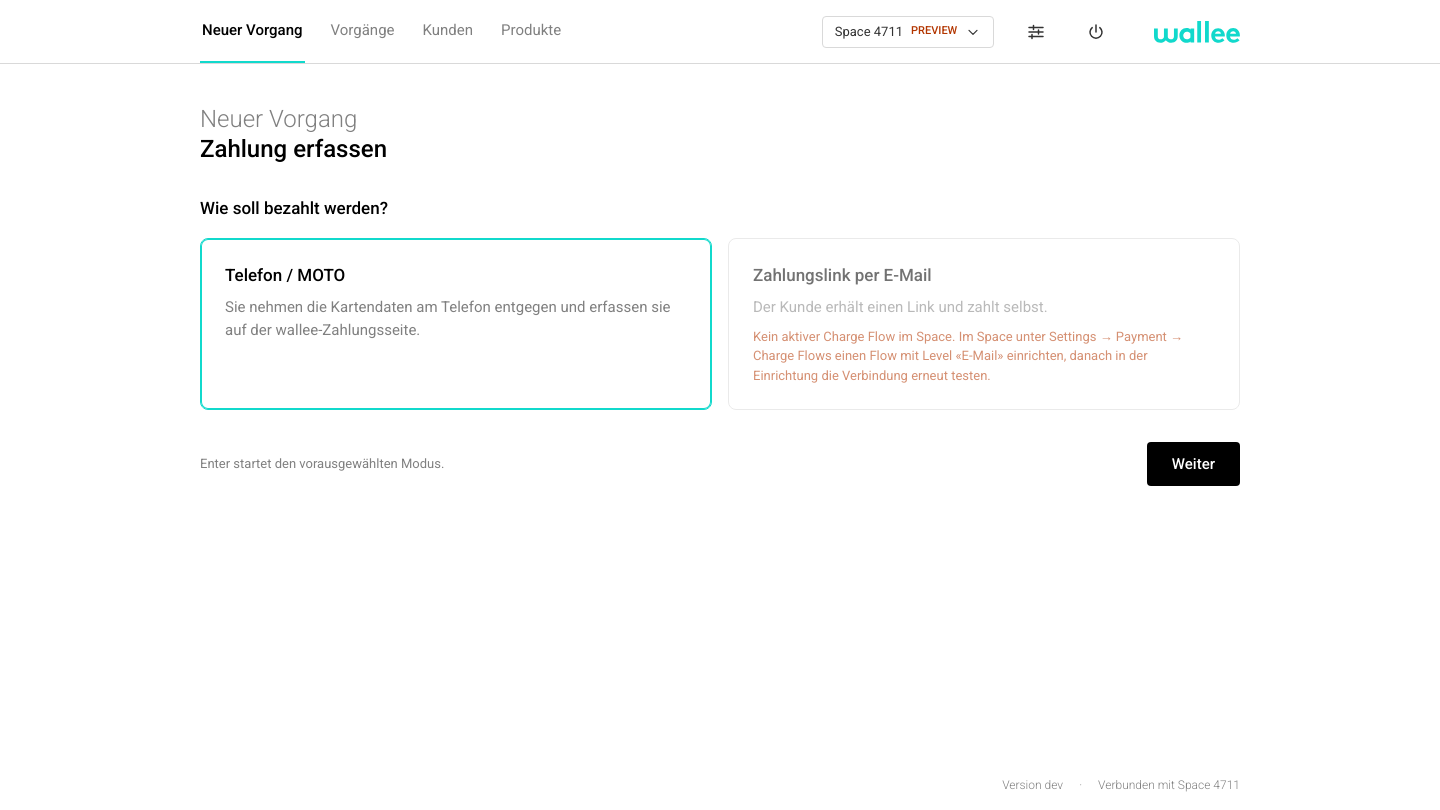
Scenario: wizard customer step with wallee customers › still allows continuing without a profile
Click the button "Telefon / MOTO": x=285, y=274 x1=200 y1=238 x2=712 y2=410
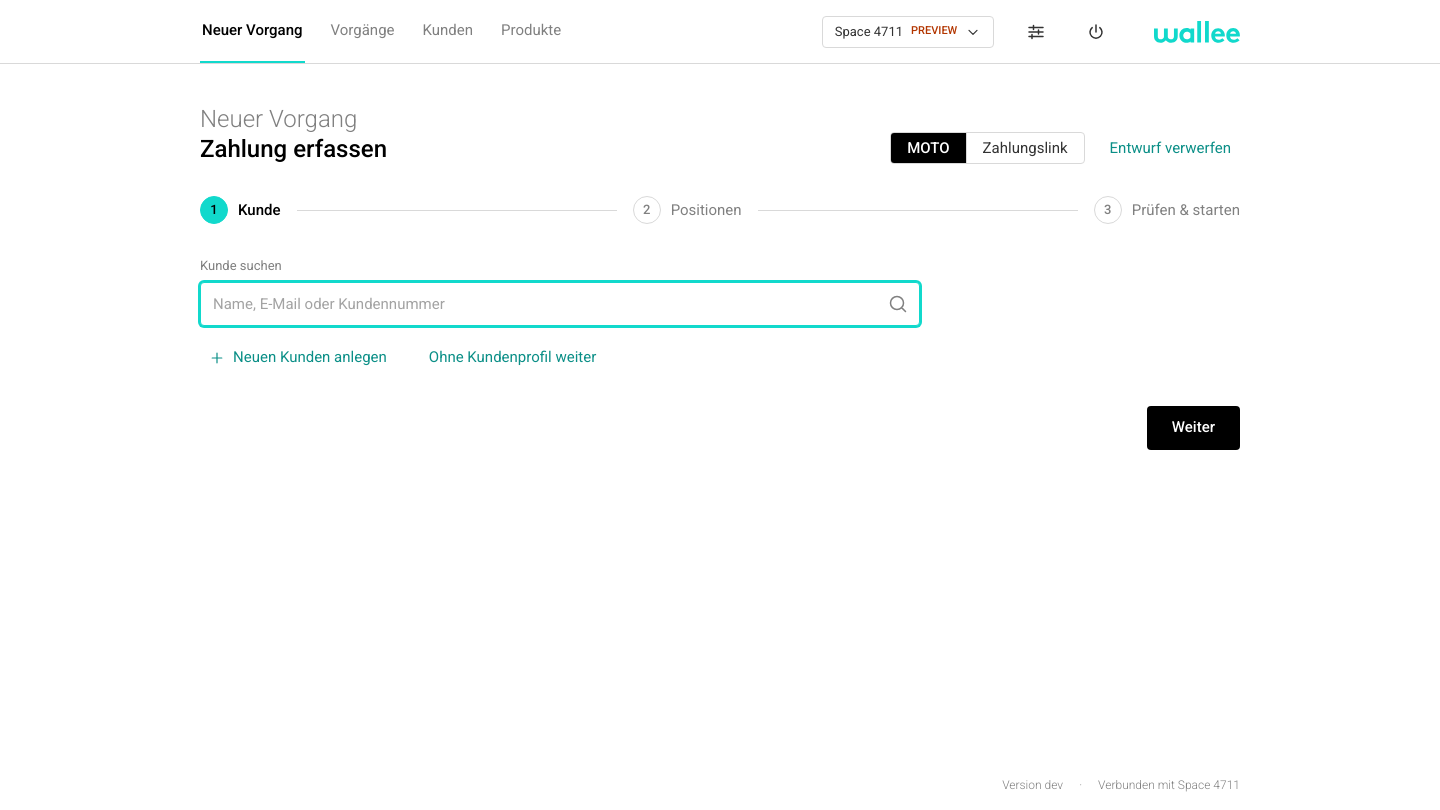
Click the button "Ohne Kundenprofil weiter": x=513, y=358 x1=420 y1=342 x2=605 y2=374
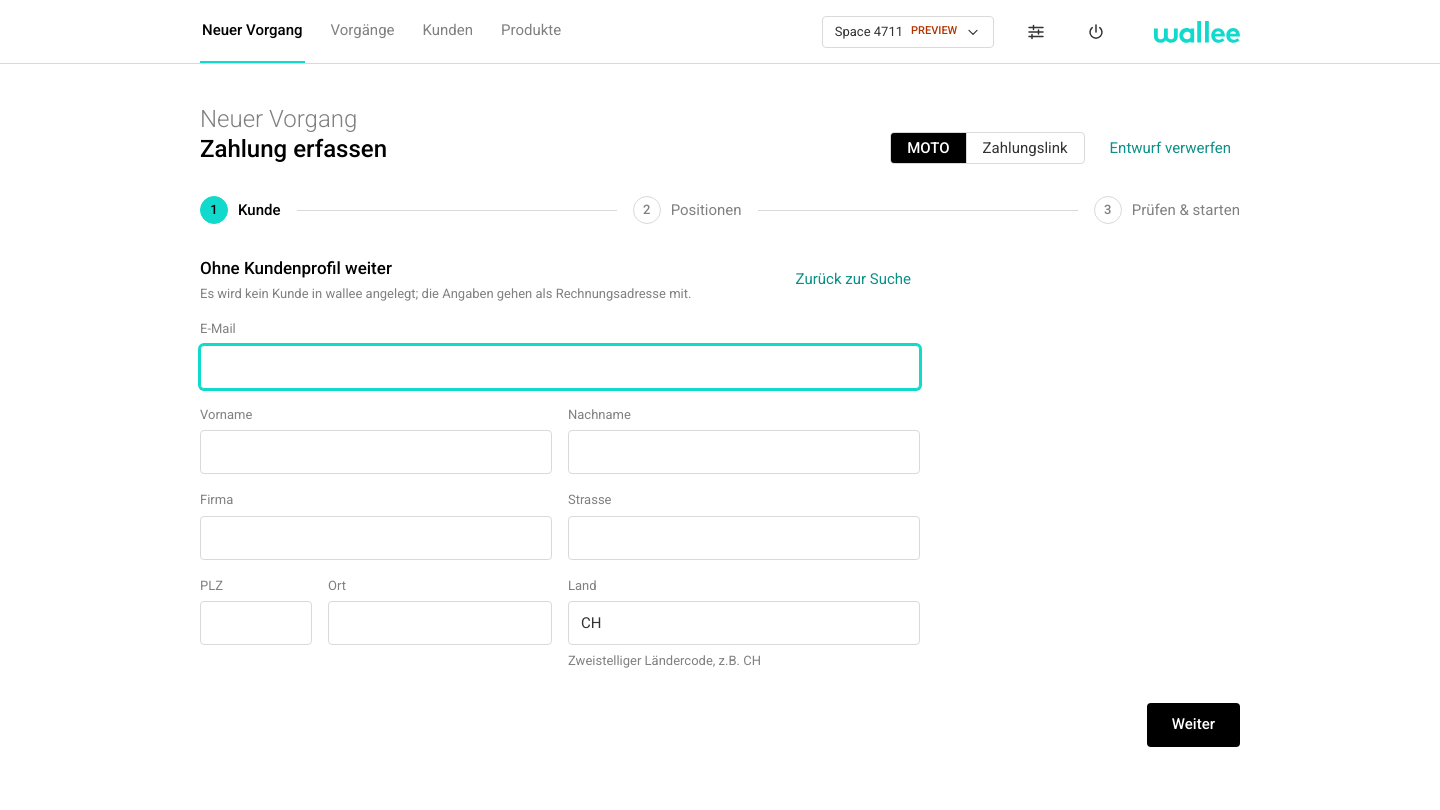
Result: the field labelled "Strasse" is shown at x1=568 y1=516 x2=920 y2=560
Click the button "Weiter": x=1193, y=724 x1=1147 y1=702 x2=1240 y2=746
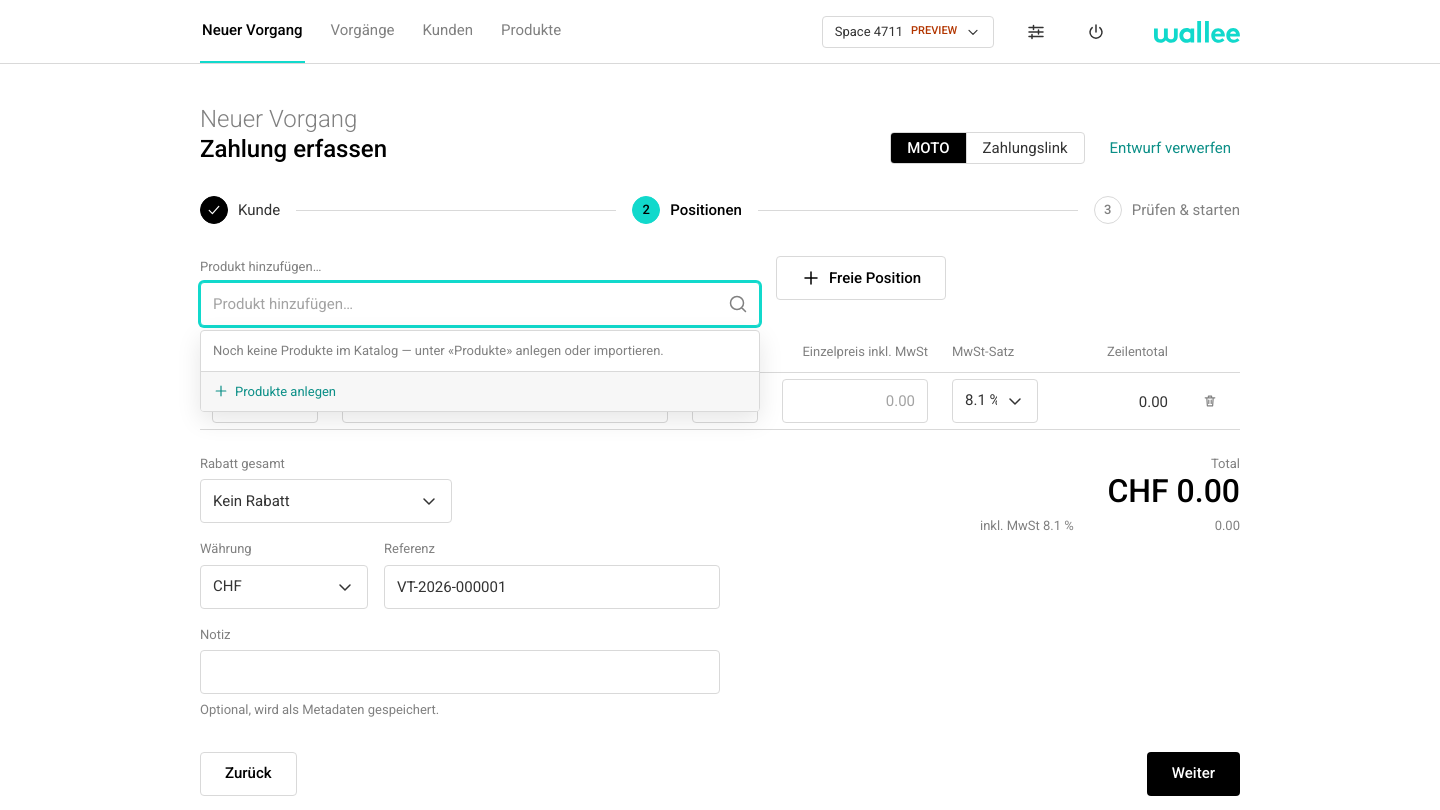
Result: the field named "Bezeichnung 1" is shown at x1=342 y1=378 x2=668 y2=422
